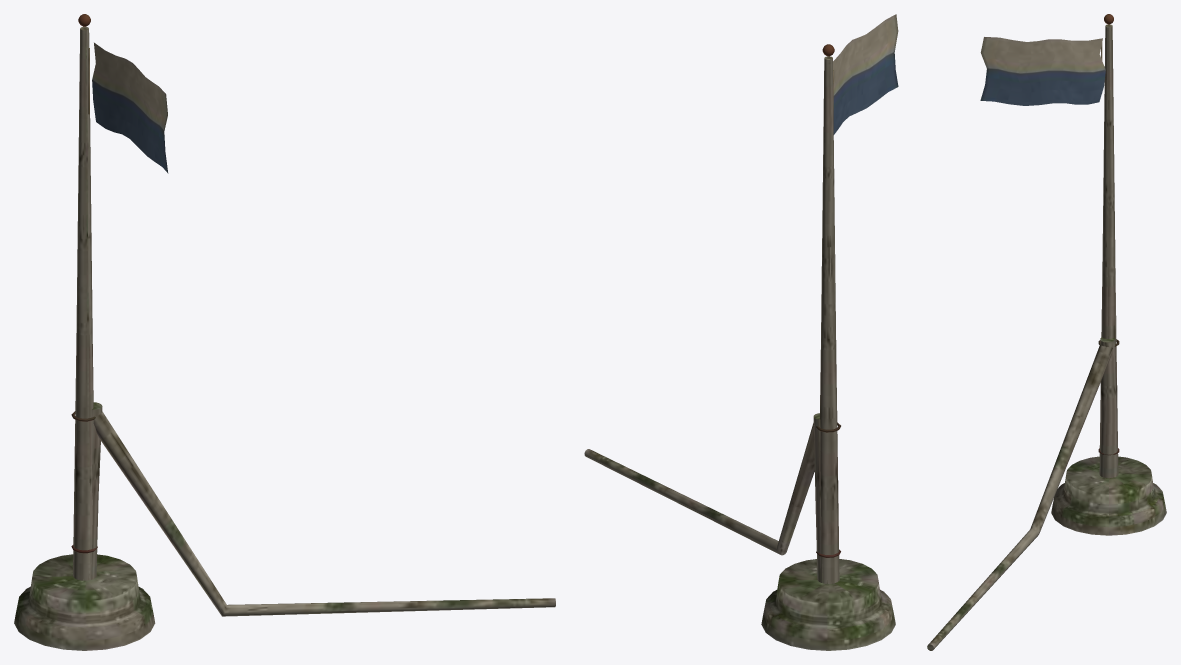
The model's file is starfort_flagstaff_live.glb.
3 renders of one model, left to right at view 1: azimuth 30°, elevation 25°; view 2: azimuth 150°, elevation 25°; view 3: azimuth 270°, elevation 25°, orthographic. The views are drawn at different scales.
Parts seen in each view (by area): view 1: intact, breached, flag; view 2: intact, breached, flag; view 3: intact, flag, breached.
Part boxes in pixels (left/top/right/bottom): intact: left=14, top=14, right=155, bottom=650; breached: left=83, top=402, right=555, bottom=616; flag: left=88, top=42, right=168, bottom=173; intact: left=761, top=44, right=895, bottom=650; breached: left=584, top=413, right=831, bottom=583; flag: left=833, top=14, right=898, bottom=134; intact: left=1051, top=14, right=1166, bottom=535; flag: left=980, top=37, right=1105, bottom=105; breached: left=927, top=337, right=1118, bottom=650.
Size of what is drawn, in the model's own units: 5.39 by 7.37 by 3.22.
Materials: 2 (2 with a texture image).
